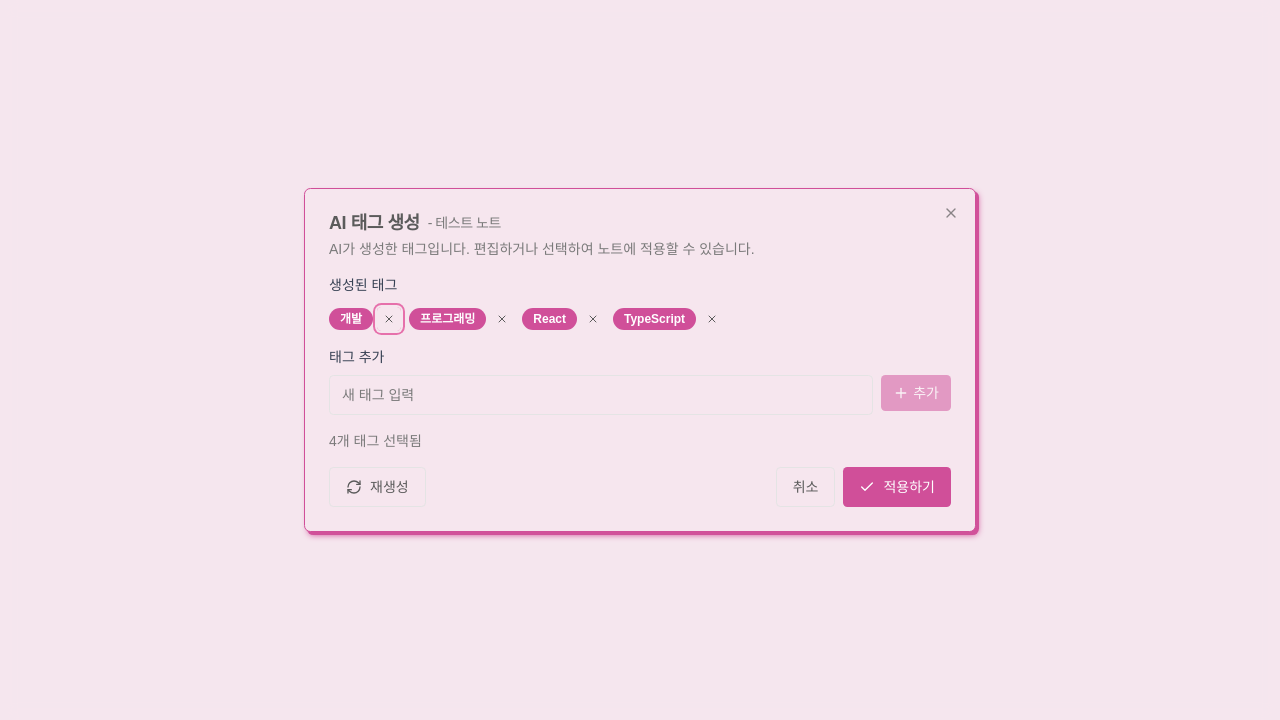
Test: TagModal › 새 태그를 추가할 수 있다
In the field with placeholder "새 태그 입력": (601,395) [329,375,873,415], type "새로운태그"
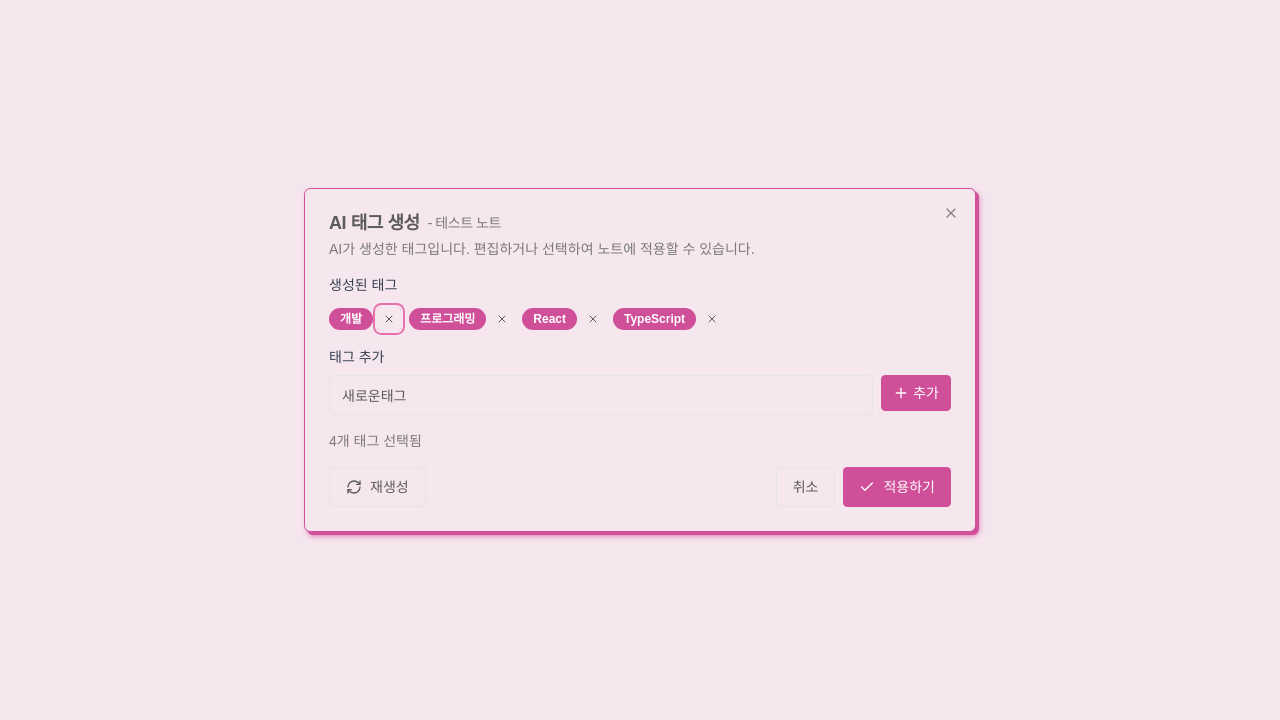
Click the button "추가": (916,393) [881,375,951,411]
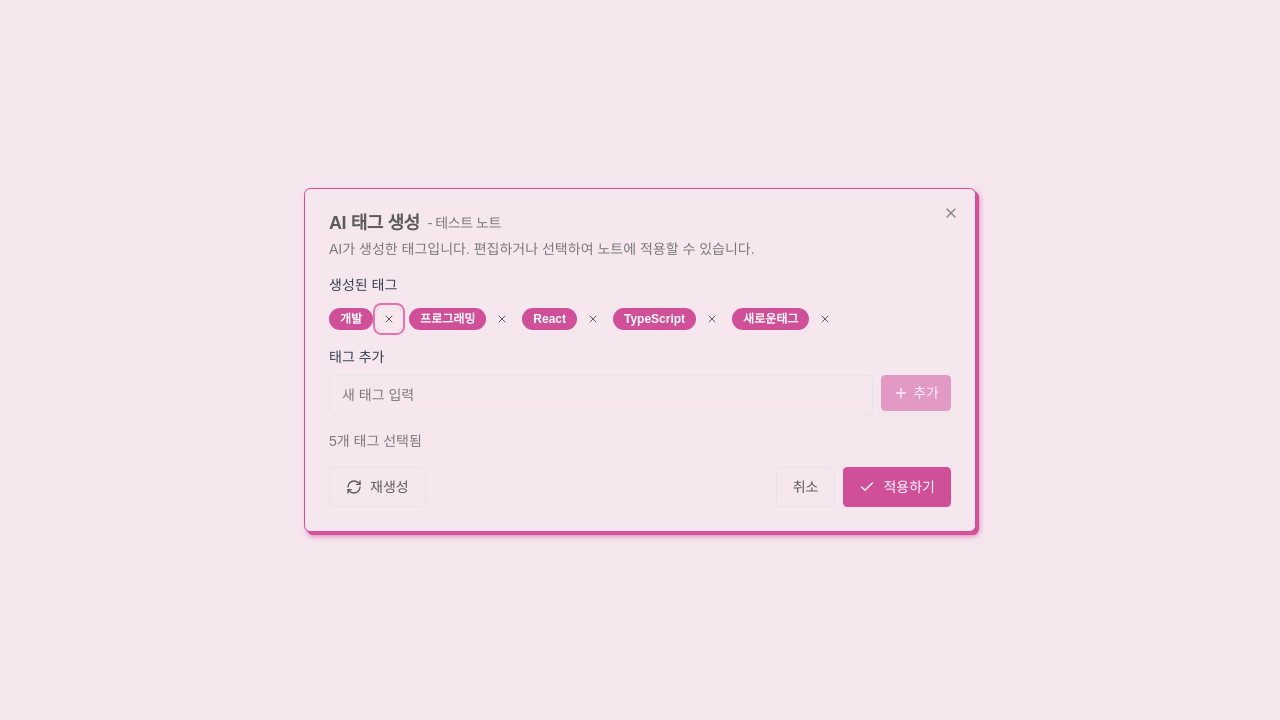
Expected: the text "새로운태그" is shown, [732,308,809,330]
